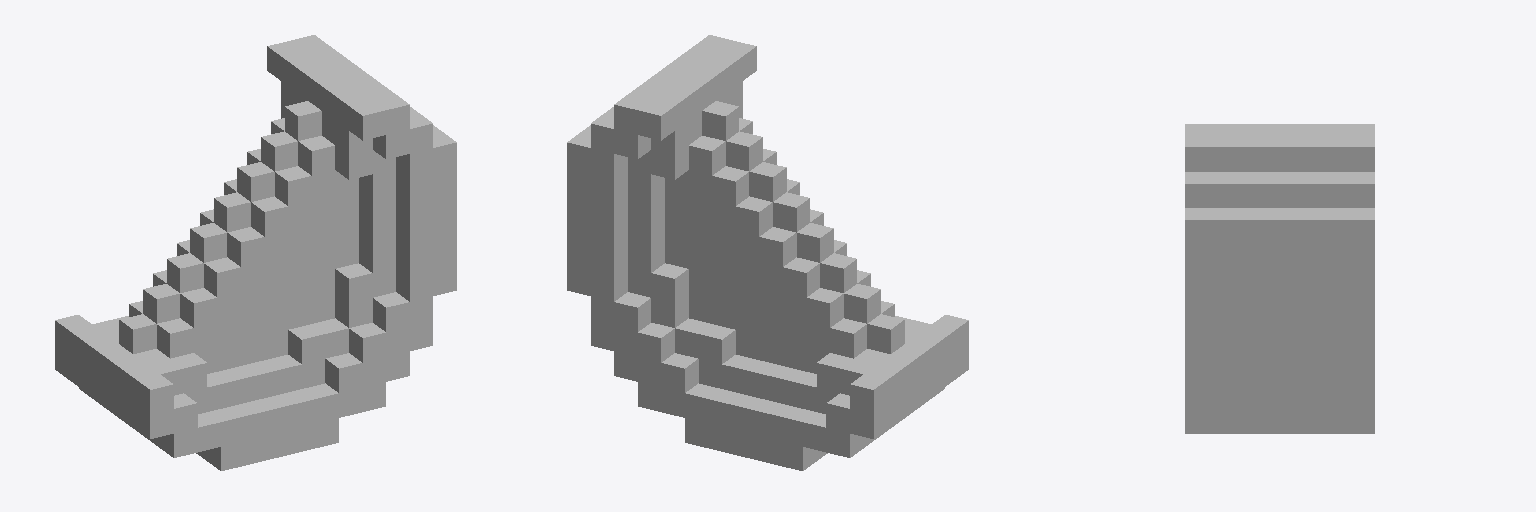
File: Melon.obj
3 renders of one model, left to right at view 1: azimuth 30°, elevation 25°; view 2: azimuth 150°, elevation 25°; view 3: azimuth 270°, elevation 25°, orthographic.
Size of the model in its own units: 0.4062 by 0.4062 by 0.2188.